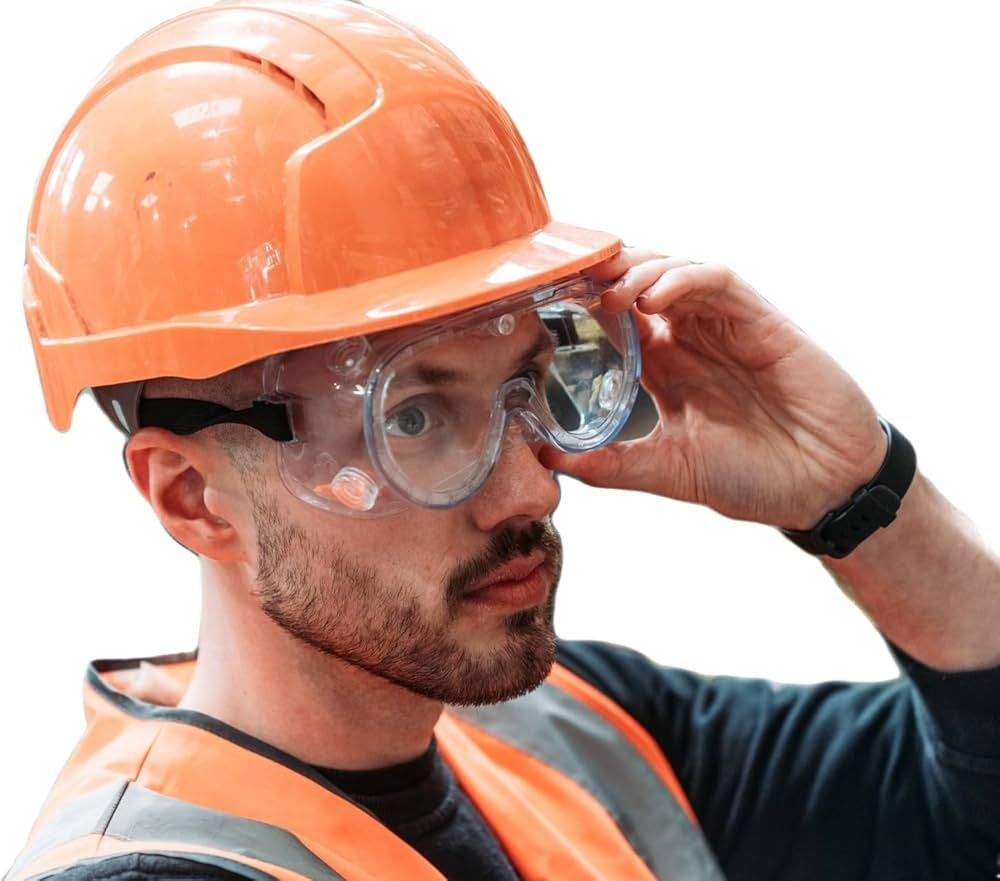safety_goggles: (77, 260, 701, 522)
